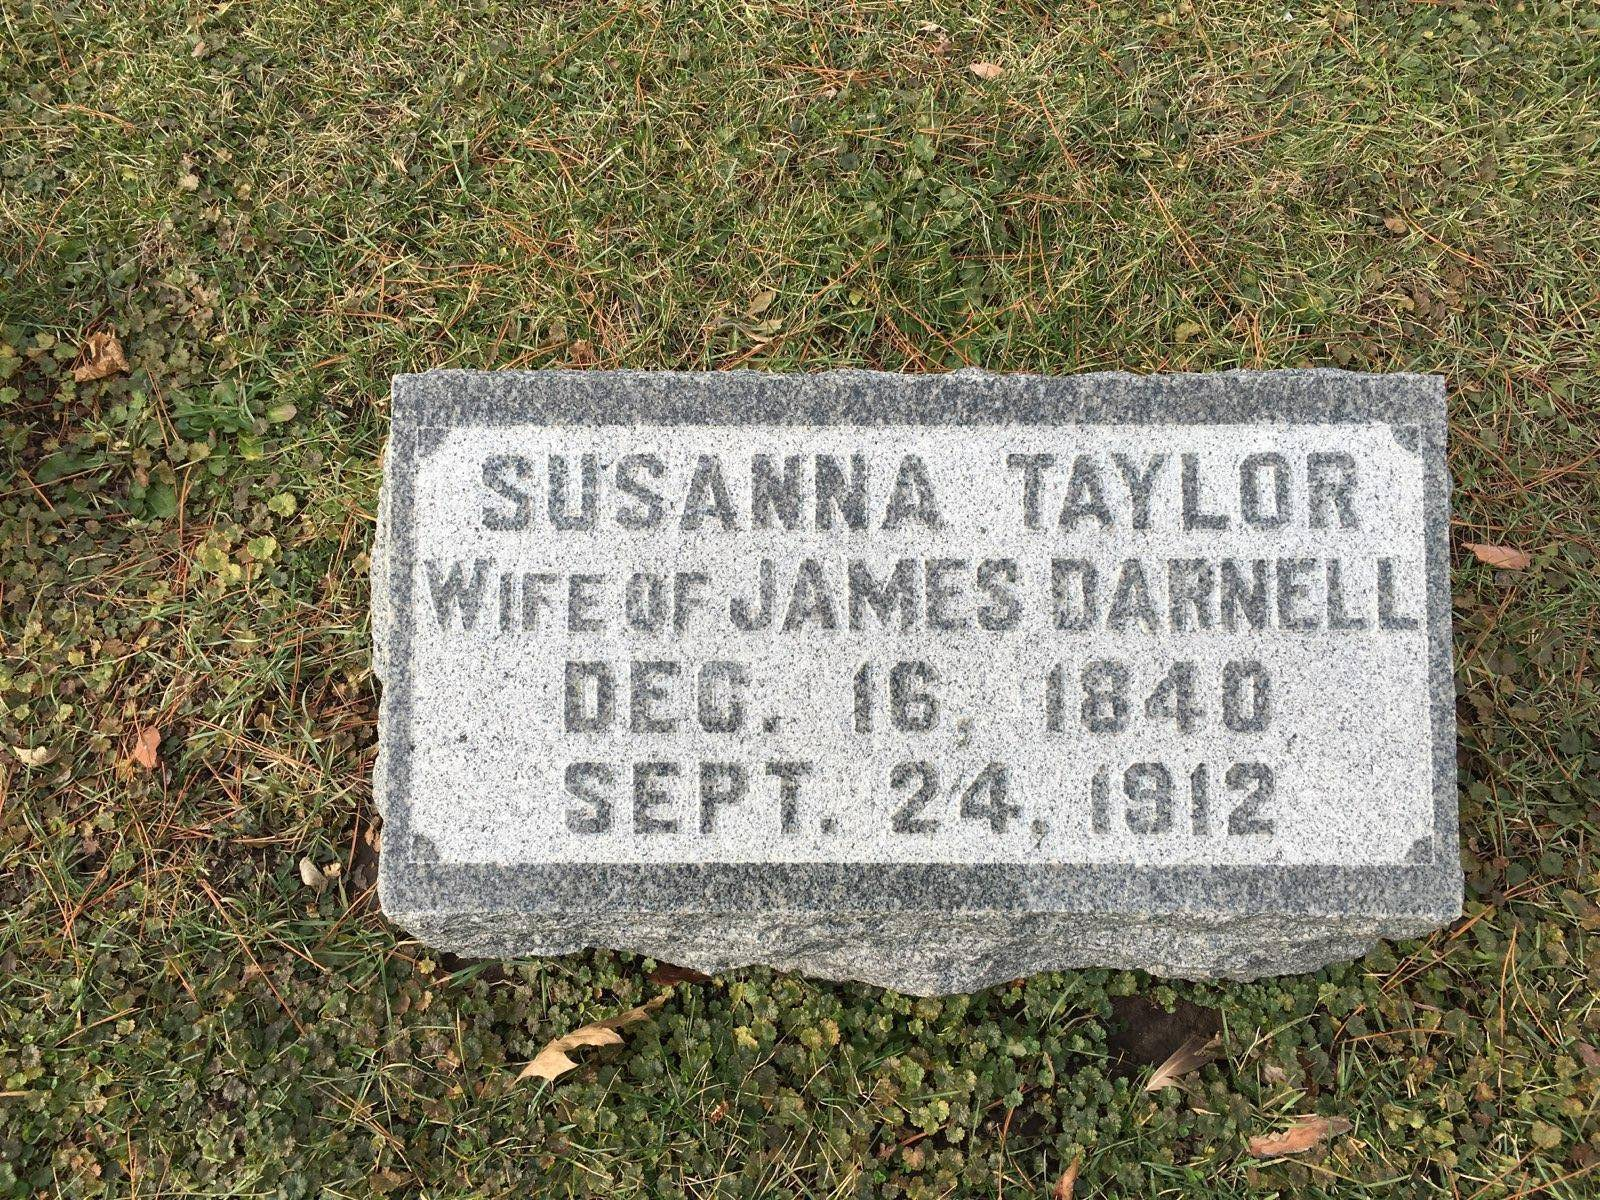flat: (370, 359, 1490, 1007)
